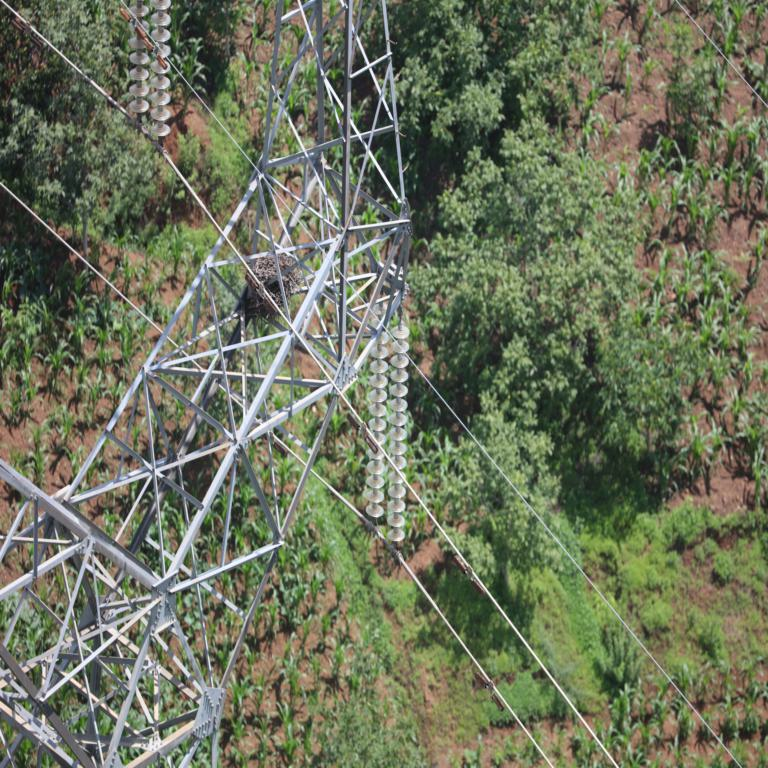nest: (252, 249, 298, 319)
